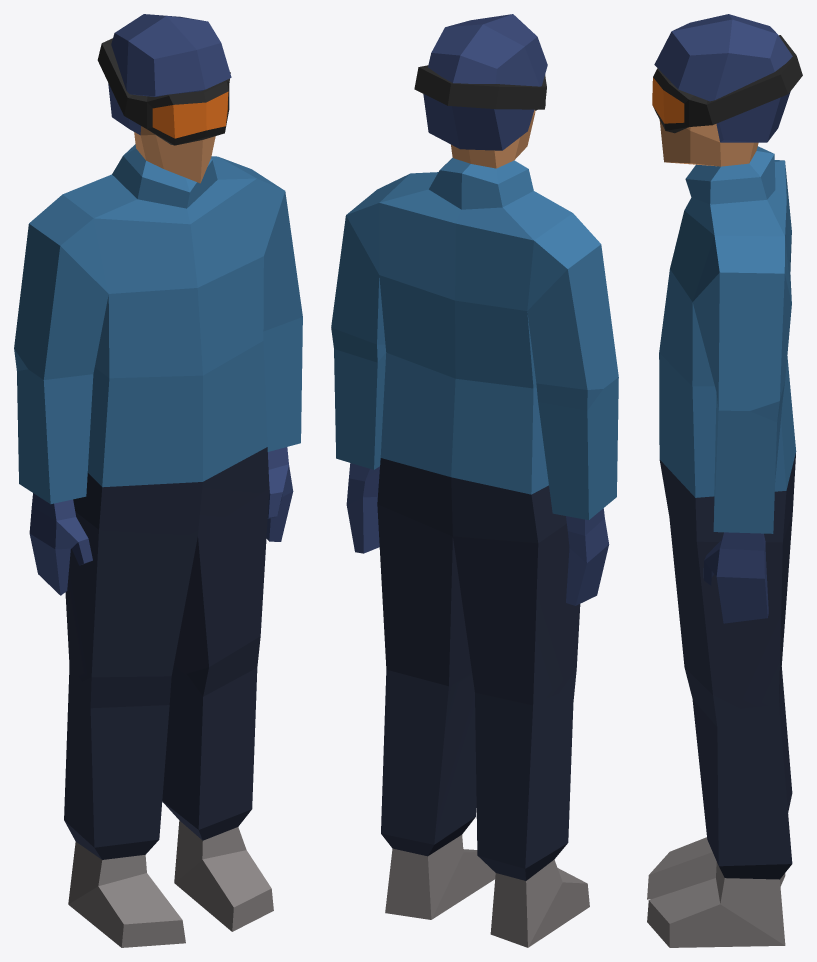
File: people_man-ski.fbx
3 renders of one model, left to right at view 1: azimuth 30°, elevation 25°; view 2: azimuth 150°, elevation 25°; view 3: azimuth 270°, elevation 25°, orthographic.
Parts seen in each view (by area): view 1: people_man_ski; view 2: people_man_ski; view 3: people_man_ski.
Part boxes in pixels (box(x1,y1,x2,y2)): people_man_ski: box(14, 14, 302, 947); people_man_ski: box(331, 14, 618, 947); people_man_ski: box(647, 14, 802, 947).
Size of the model in its own units: 60.89 by 200 by 31.7.
